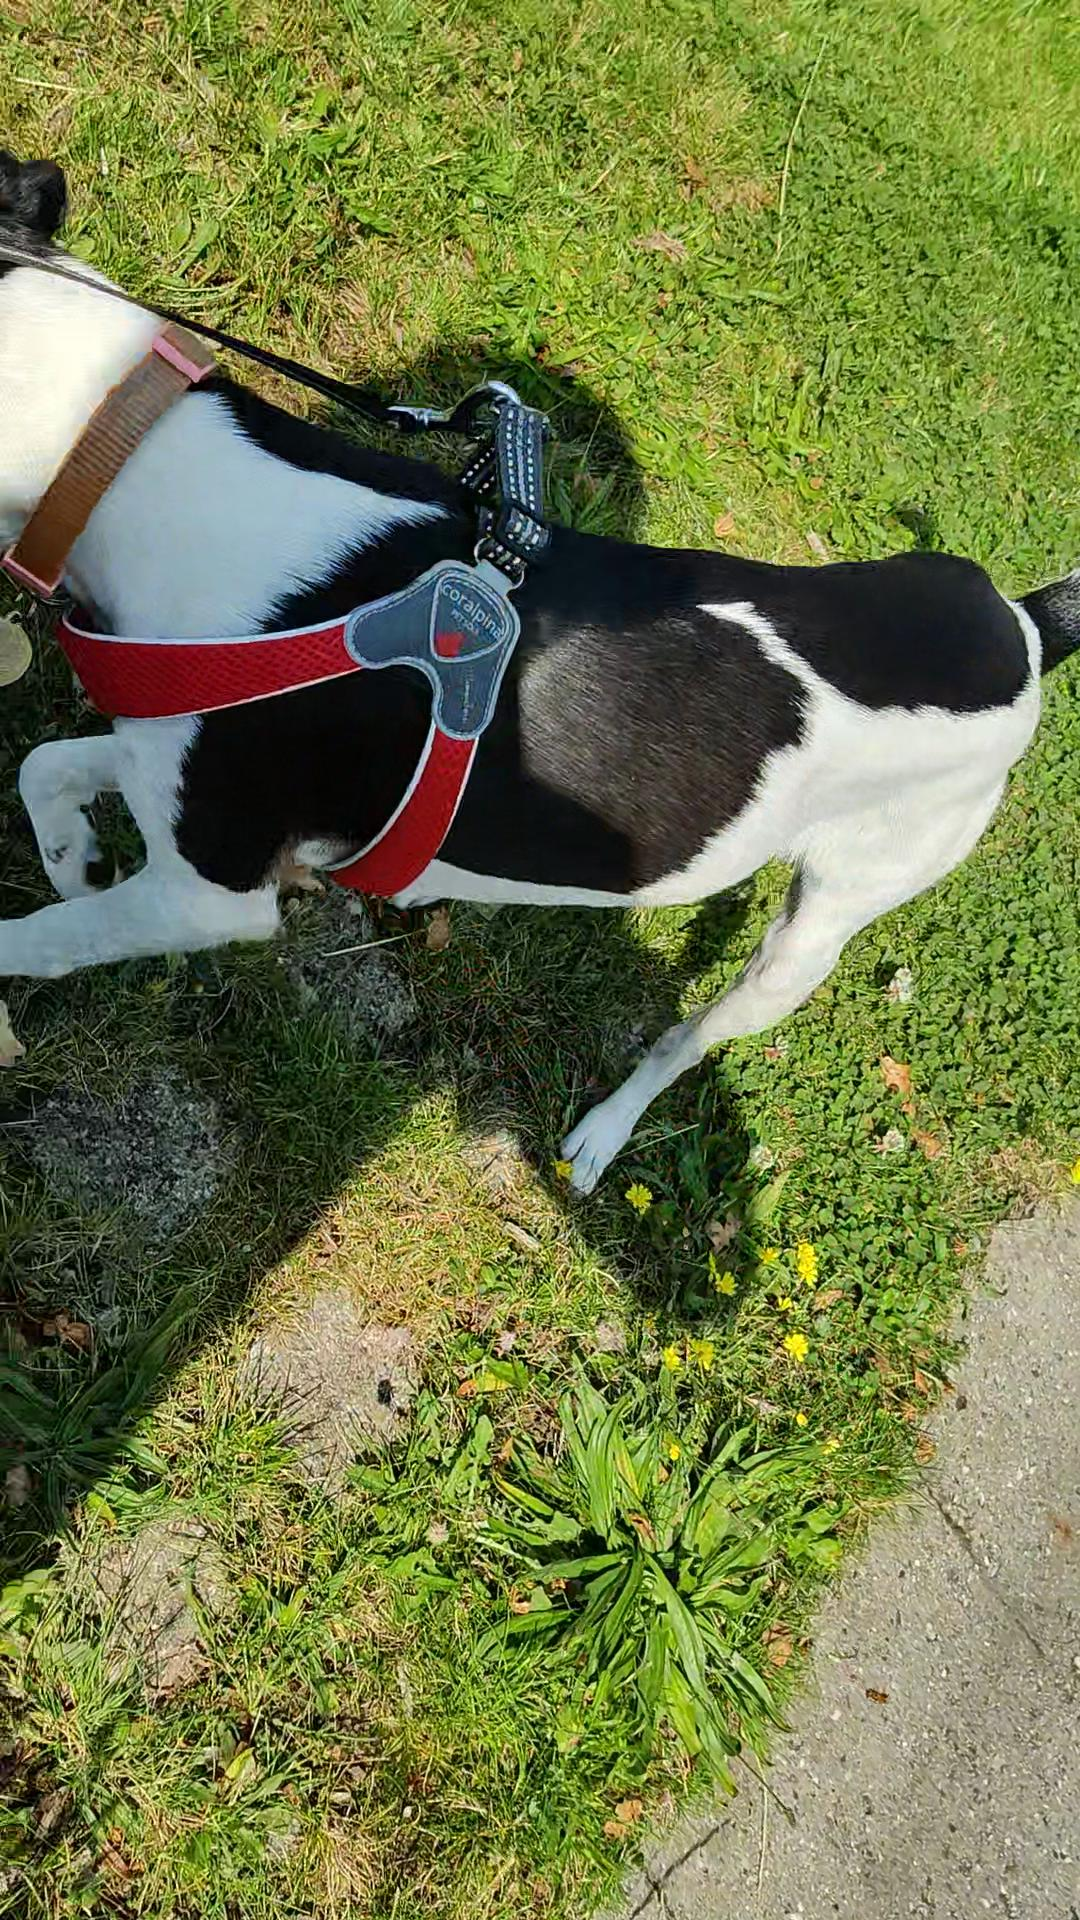Dog: (0, 128, 1079, 1207)
